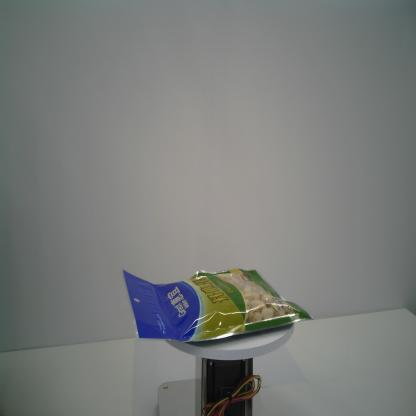Dried Fruit: (121, 268, 315, 344)
